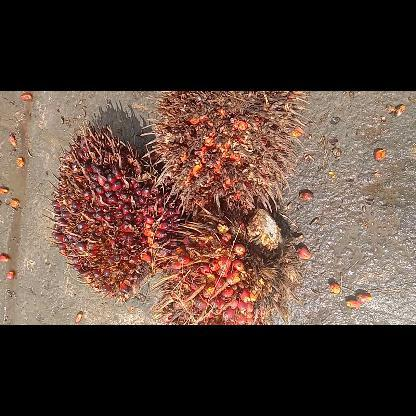TBS masak: (43, 119, 185, 304), (146, 202, 300, 324)
Terlalu masak: (141, 91, 310, 215)
